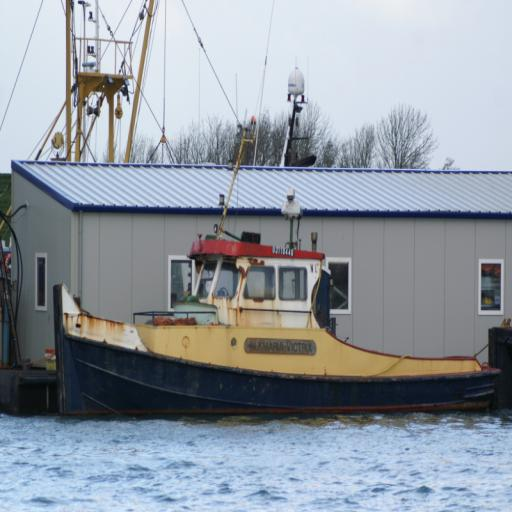tugboat: (49, 184, 505, 426)
